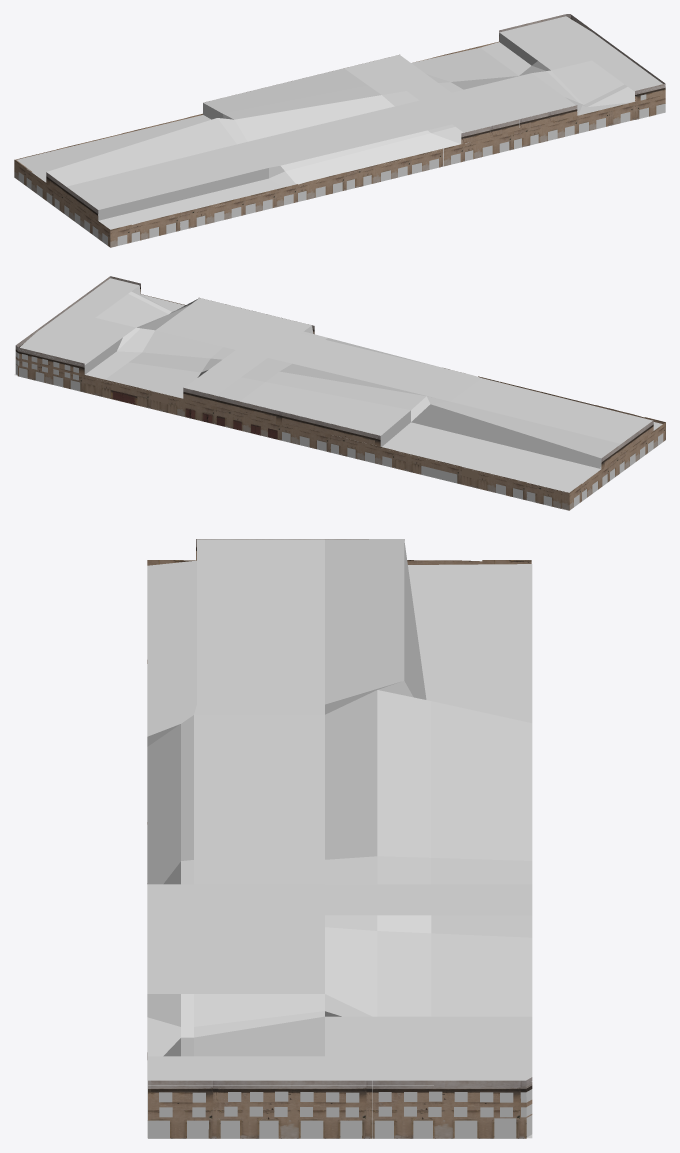
3 views of the same model, one above another, from view 1: azimuth 30°, elevation 25°; view 2: azimuth 150°, elevation 25°; view 3: azimuth 270°, elevation 25° (orthographic). The views are drawn at different scales.
Parts seen in each view (by area): view 1: Plano.008, Plano.007, Plano.005, Plano.002; view 2: Plano.008, Plano.006, Plano.007, Plano.002; view 3: Plano.008, Plano.001, Plano.003, Plano.004.
Boxes of the visible parts, x1,y1,x2,y2 form: Plano.008: (17,16,665,229); Plano.007: (14,102,634,247); Plano.005: (461,83,665,143); Plano.002: (46,14,570,220); Plano.008: (20,278,662,492); Plano.006: (84,375,395,468); Plano.007: (141,294,665,510); Plano.002: (15,345,653,468); Plano.008: (147,539,532,1085); Plano.001: (372,1080,526,1138); Plano.003: (218,1080,372,1138); Plano.004: (148,1080,218,1138).
Size of the model in its own units: 200 by 14.5 by 60.06.
